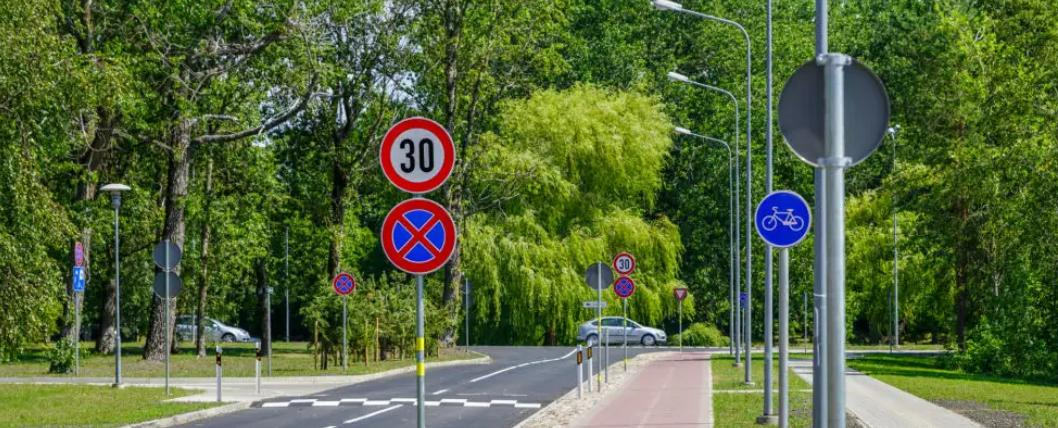road_sign: (380, 118, 455, 193), (381, 198, 456, 273), (755, 190, 812, 248), (334, 274, 354, 295), (614, 276, 634, 297), (614, 254, 634, 274), (673, 290, 687, 300)
